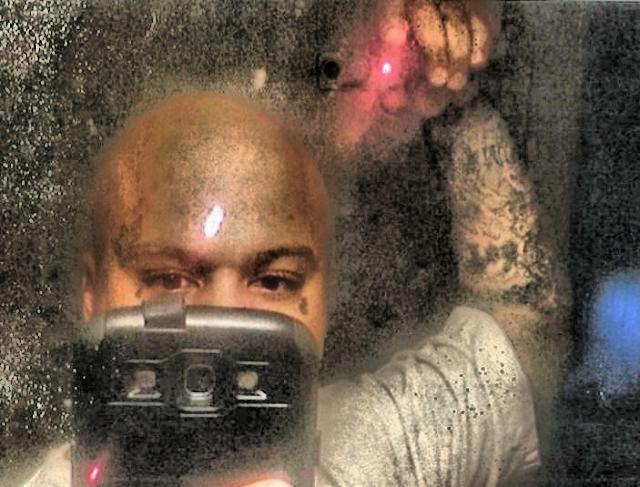pistol: (308, 29, 488, 93)
